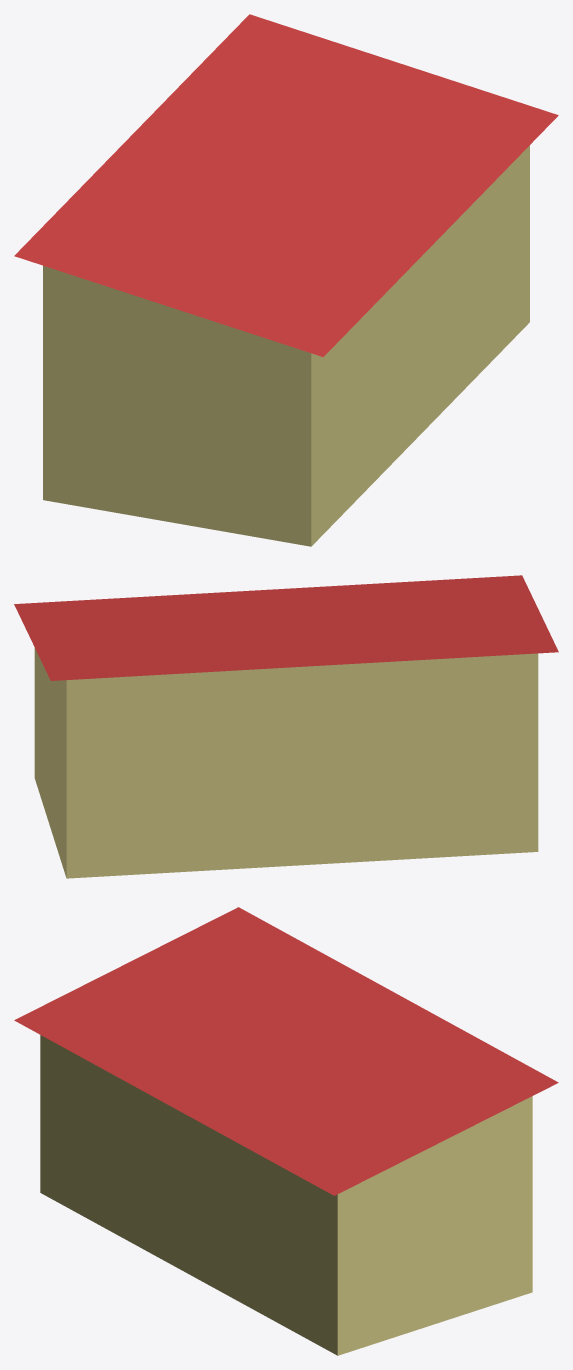
3 renders of one model, top to bottom at view 1: azimuth 30°, elevation 25°; view 2: azimuth 150°, elevation 25°; view 3: azimuth 270°, elevation 25°, orthographic. The views are drawn at different scales.
Size of the model in its own units: 23.54 by 21.8 by 9.32.
